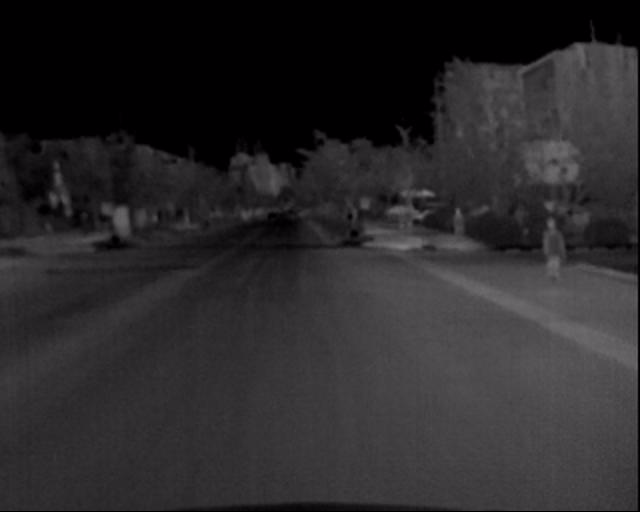person: (538, 206, 571, 290), (447, 205, 473, 254)
